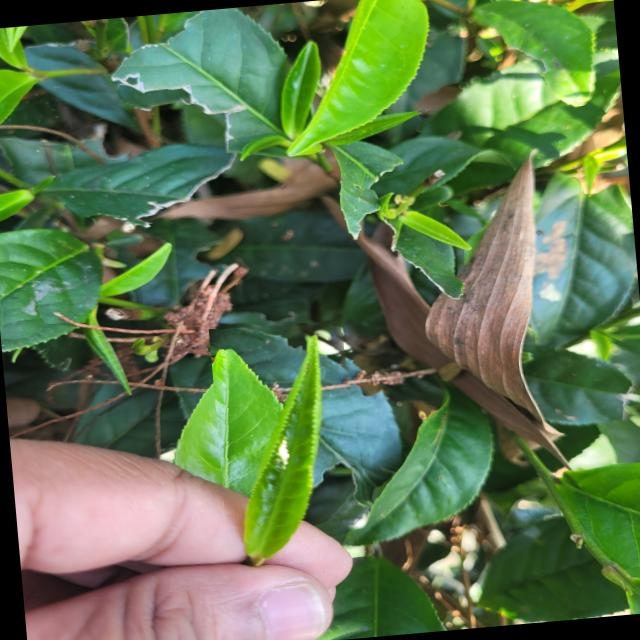Catagory A(1-2 days): (209, 315, 375, 567)
